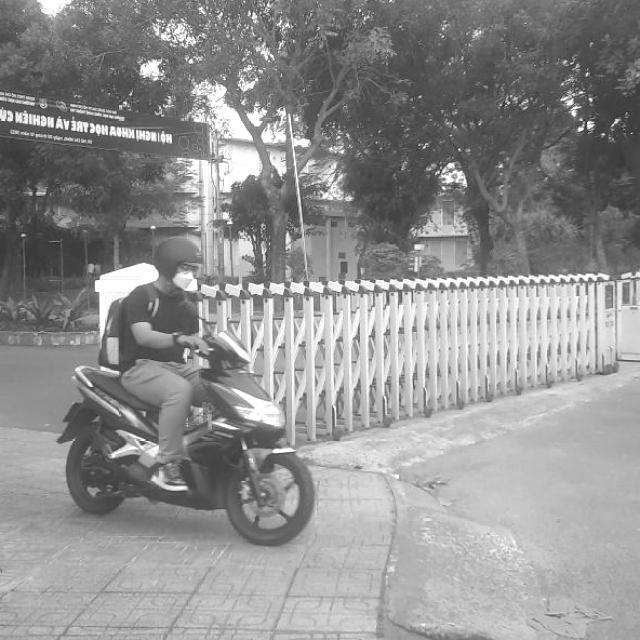Helmet: (147, 236, 205, 294)
